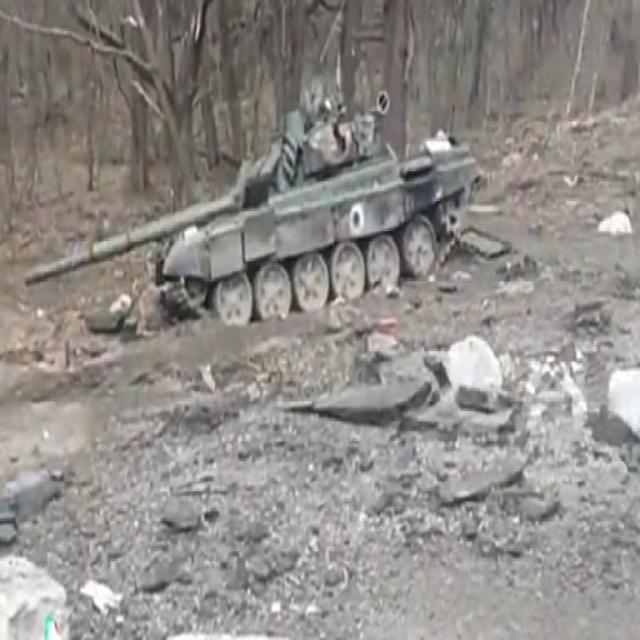TANK: (5, 78, 475, 373)
